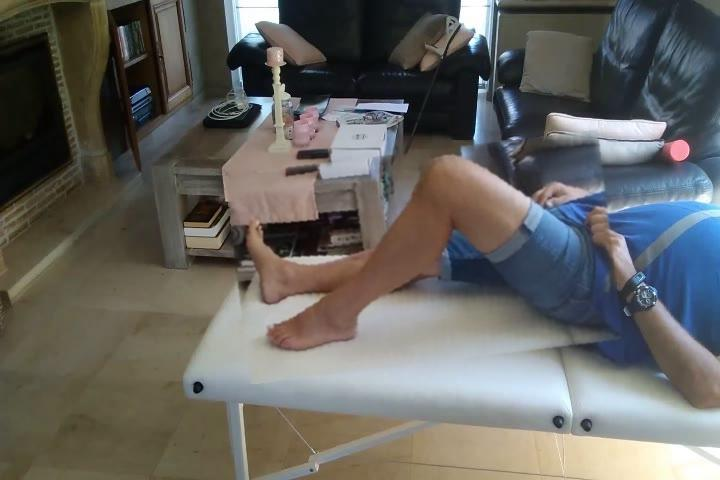lower_body: (232, 141, 618, 374)
